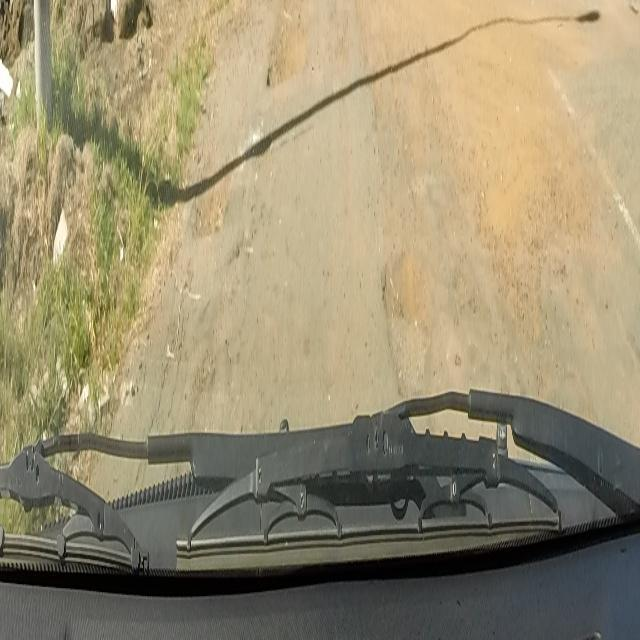pothole: (380, 234, 430, 332), (266, 26, 304, 90)
